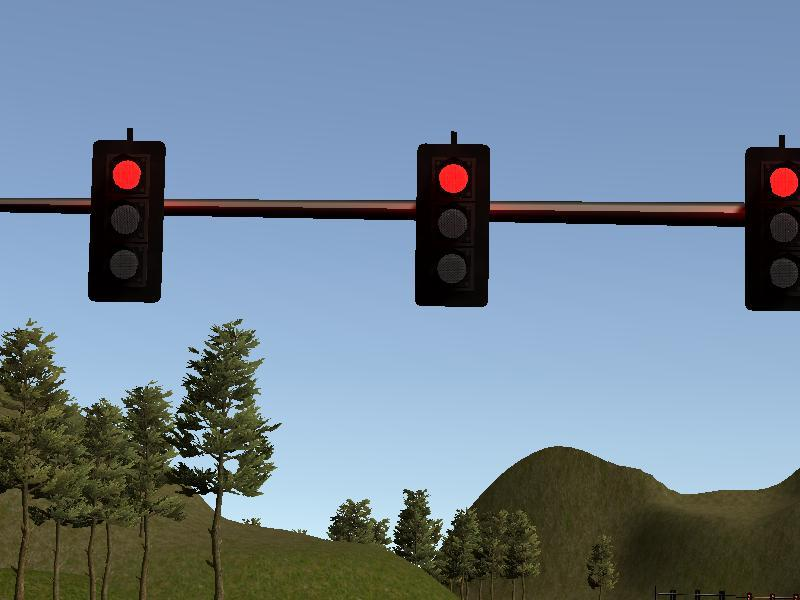Red: (415, 144, 490, 307), (92, 138, 159, 301), (747, 149, 800, 309)
